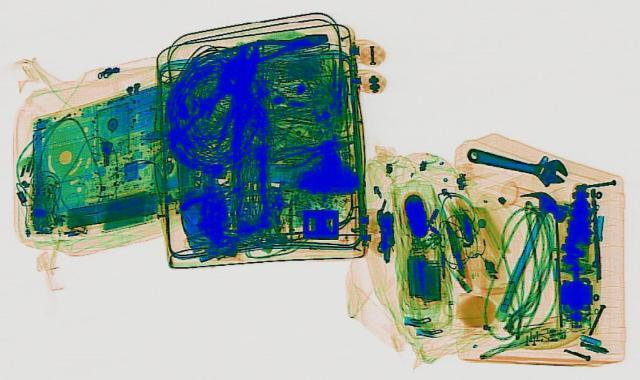Pliers: (217, 26, 336, 67), (264, 130, 358, 170)
Wrench: (455, 139, 577, 188)
